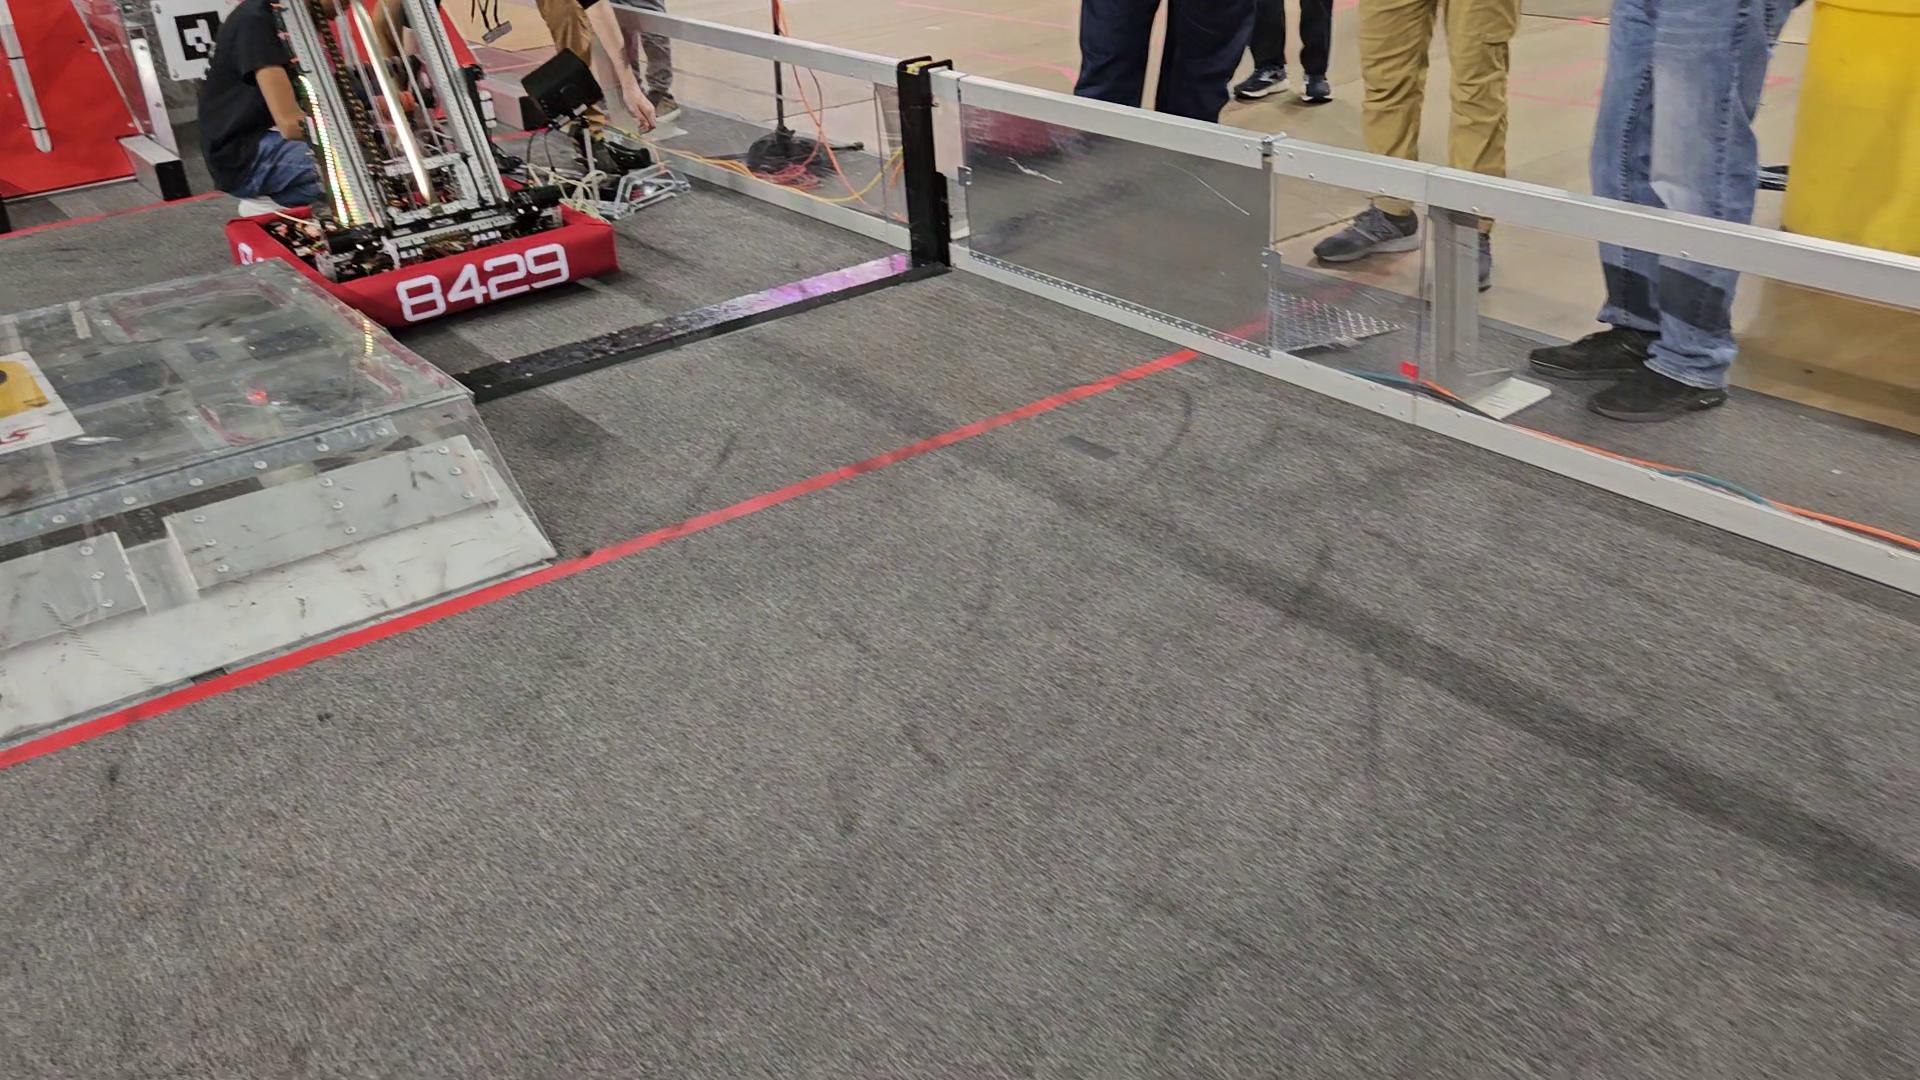robot: (223, 0, 615, 324)
